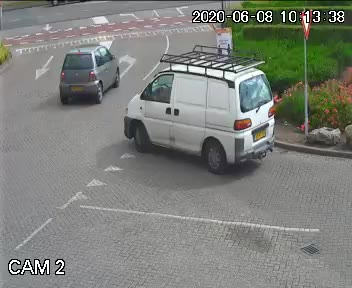car: (130, 57, 300, 180), (55, 32, 123, 108)
